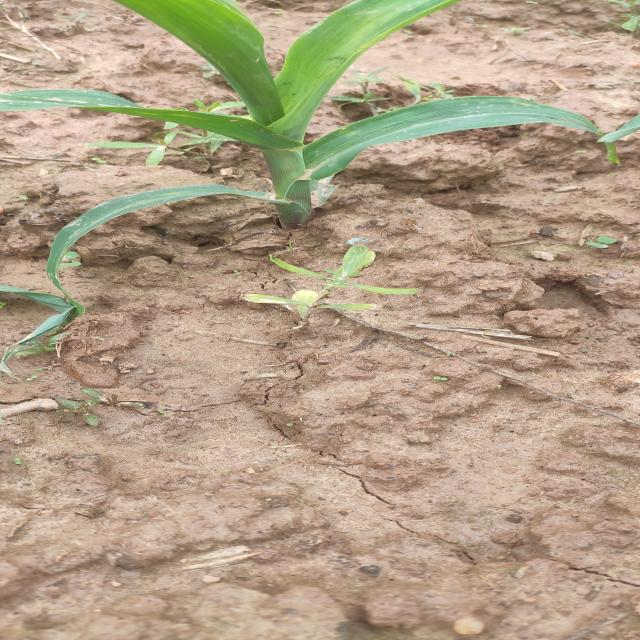maize: (0, 0, 592, 234)
weed: (217, 237, 437, 337), (80, 123, 257, 173), (329, 61, 468, 120), (562, 231, 634, 257), (55, 6, 99, 30), (482, 25, 540, 37)
